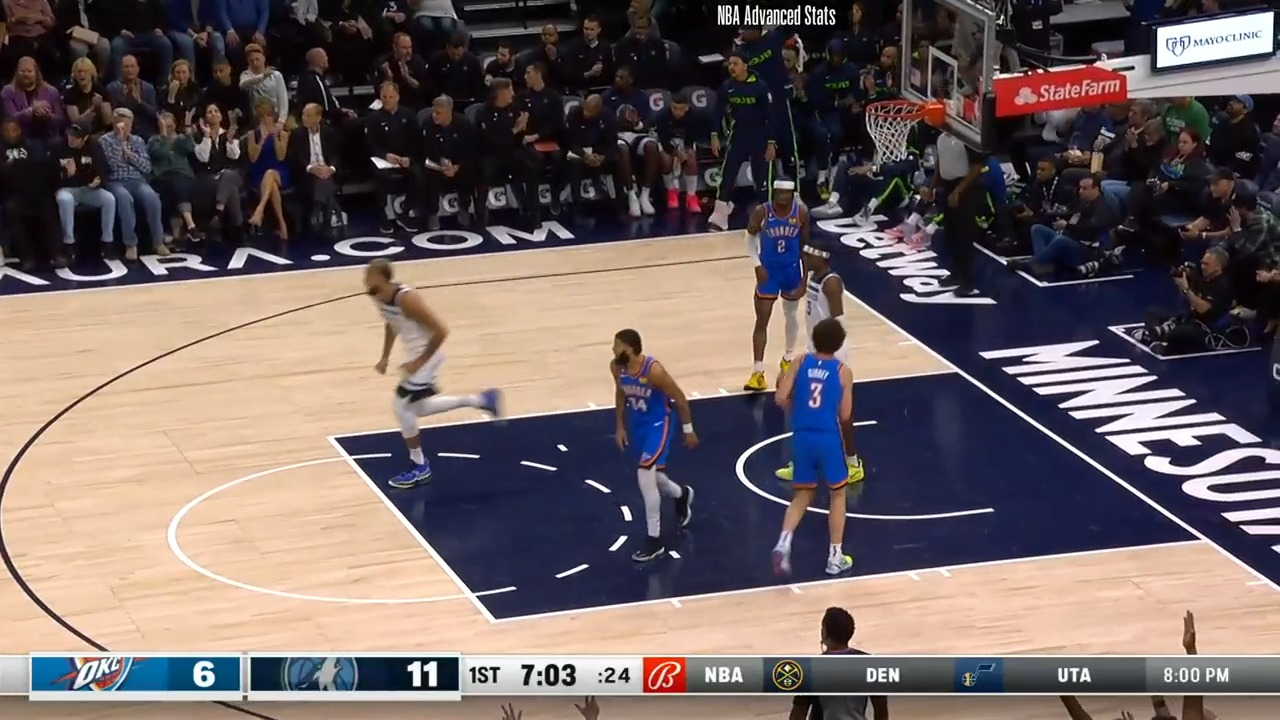net: (863, 91, 948, 163)
player: (363, 259, 509, 496), (768, 317, 866, 585), (600, 329, 696, 572), (774, 234, 866, 483), (743, 179, 819, 390)
referee: (927, 123, 996, 303)
